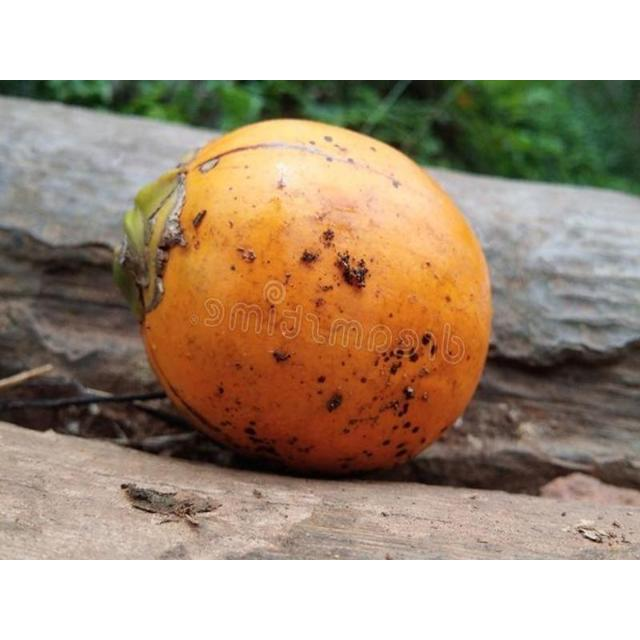good: (112, 119, 494, 481)
